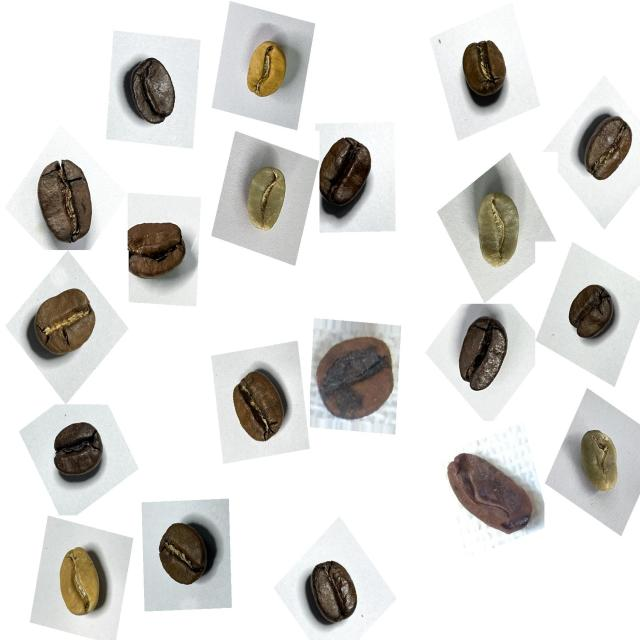bad: (441, 441, 540, 548), (309, 322, 404, 433)
dark: (450, 306, 521, 404), (314, 130, 386, 226), (118, 45, 190, 135), (296, 549, 368, 634), (44, 412, 114, 497), (558, 272, 623, 351)
green: (462, 180, 534, 280), (236, 154, 300, 243), (571, 420, 633, 506)
light: (44, 535, 114, 627), (234, 30, 296, 110)
medium: (25, 149, 106, 251), (221, 359, 298, 459), (23, 278, 106, 369), (148, 512, 222, 600), (572, 106, 640, 193), (452, 30, 518, 113)
